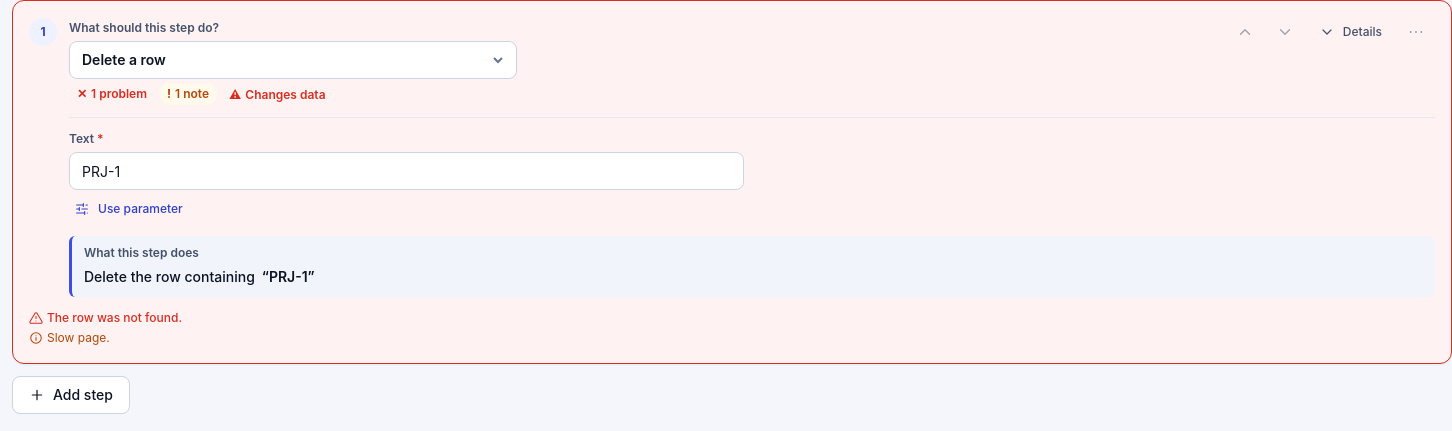
Test: step card › shows problems, notes and data changes as words, also while the details are hidden
expect the text "1 problem" is shown: met, box top-left (91, 86), bottom-right (147, 101)
expect the text "1 note" is shown: met, box top-left (175, 86), bottom-right (209, 101)
Click the button with aria-label "Step 1 details" at (1350, 32), box top-left (1306, 17), bottom-right (1395, 47)
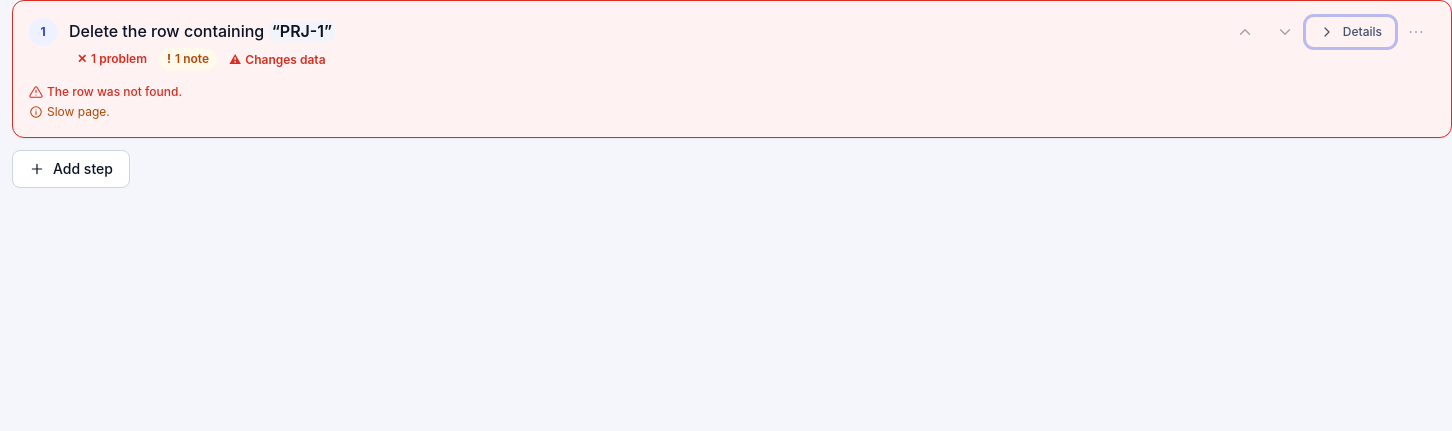
expect the list item "The row was not found." is shown: met, box top-left (29, 84), bottom-right (182, 99)
expect the button with aria-label "Step 1 details" is collapsed: met, box top-left (1306, 17), bottom-right (1395, 47)
